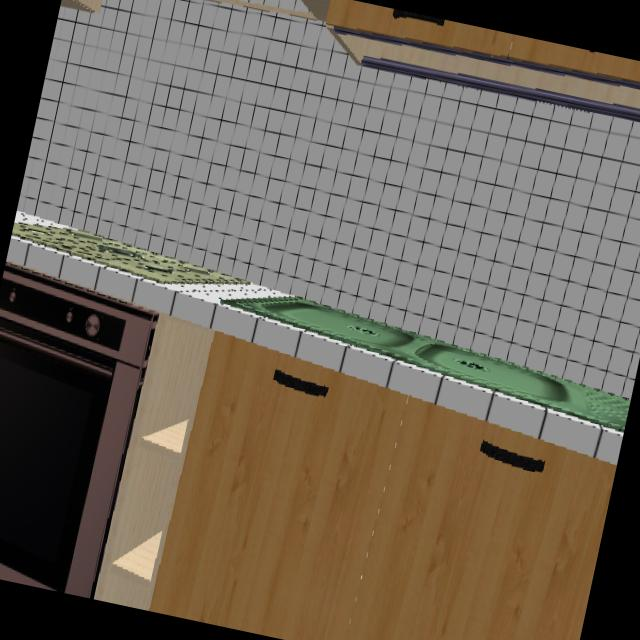cabinet: (146, 332, 616, 640), (300, 0, 640, 123)
countertop: (5, 235, 623, 466)
oven: (0, 263, 159, 599)
sink: (221, 294, 630, 433)
stove: (10, 213, 236, 284)
